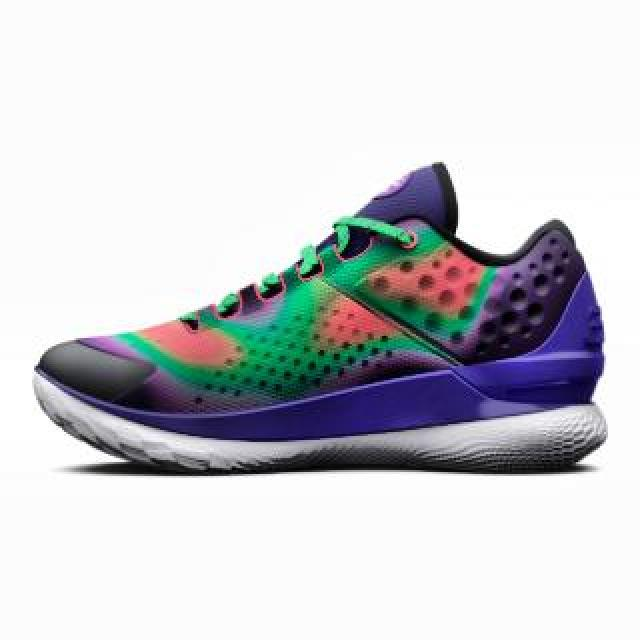shoes: (30, 161, 610, 471)
